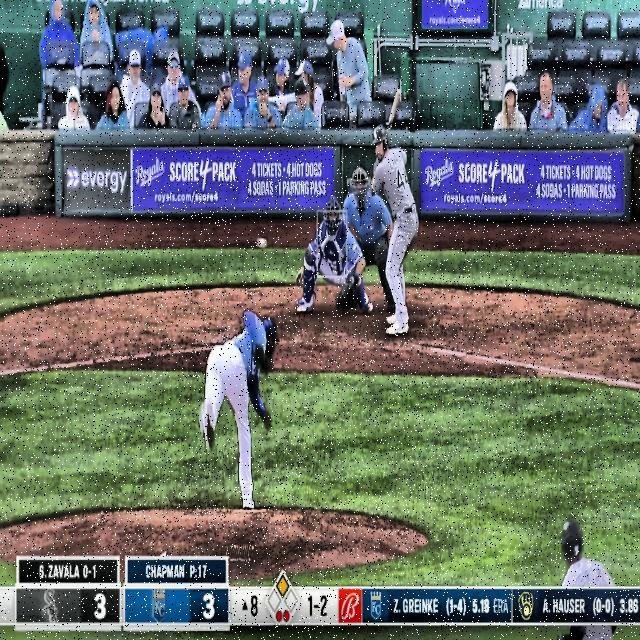baseball: (255, 237, 268, 250)
